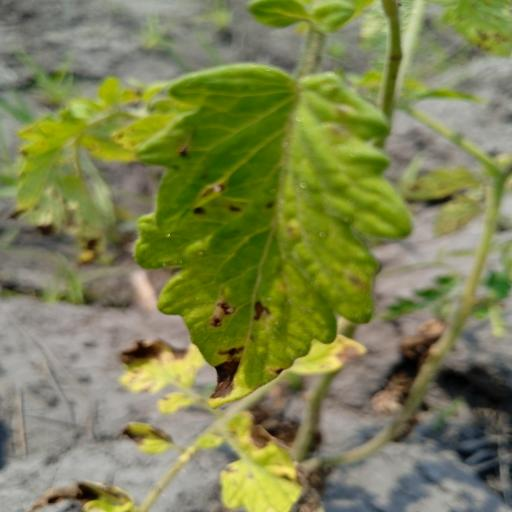Tomato_Brown_Spots: (122, 59, 420, 400)
